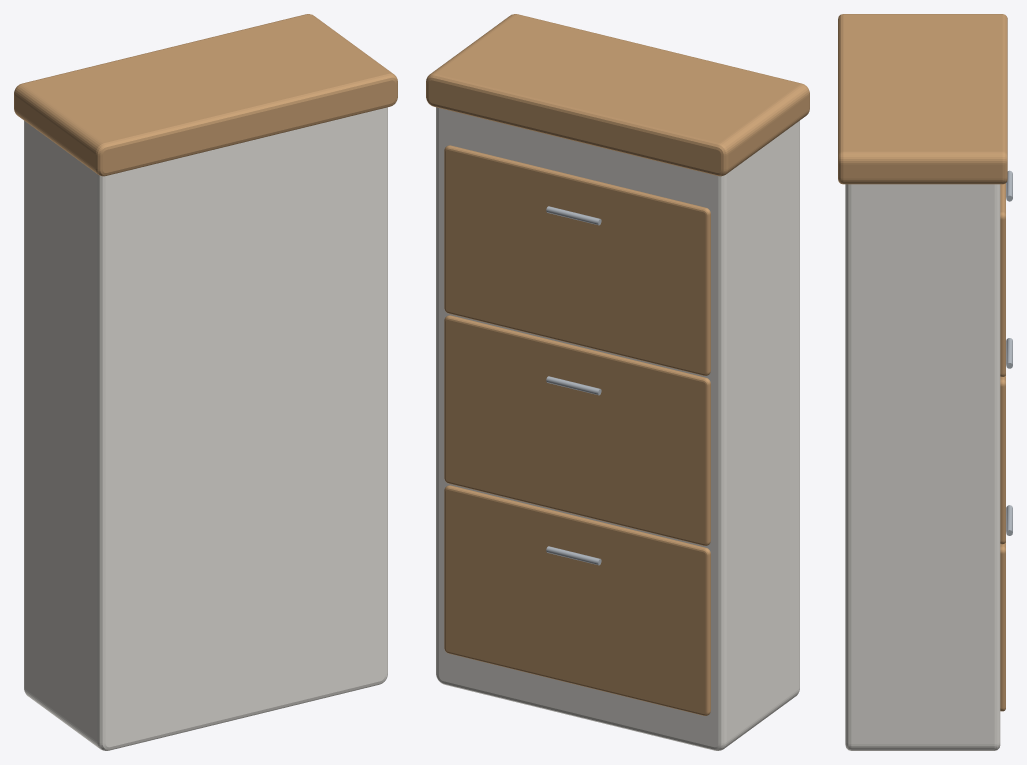
Rendered from storage_cabinet.glb.
3 renders of one model, left to right at view 1: azimuth 30°, elevation 25°; view 2: azimuth 150°, elevation 25°; view 3: azimuth 270°, elevation 25°, orthographic.
Visible parts, largest first — view 1: storage_cabinet_refined; view 2: storage_cabinet_refined; view 3: storage_cabinet_refined.
Part boxes in pixels (<box>): storage_cabinet_refined: <box>14,14,397,750</box>; storage_cabinet_refined: <box>426,14,809,750</box>; storage_cabinet_refined: <box>838,14,1012,750</box>.
Size of the model in its own units: 0.928 by 1.8 by 0.474.
